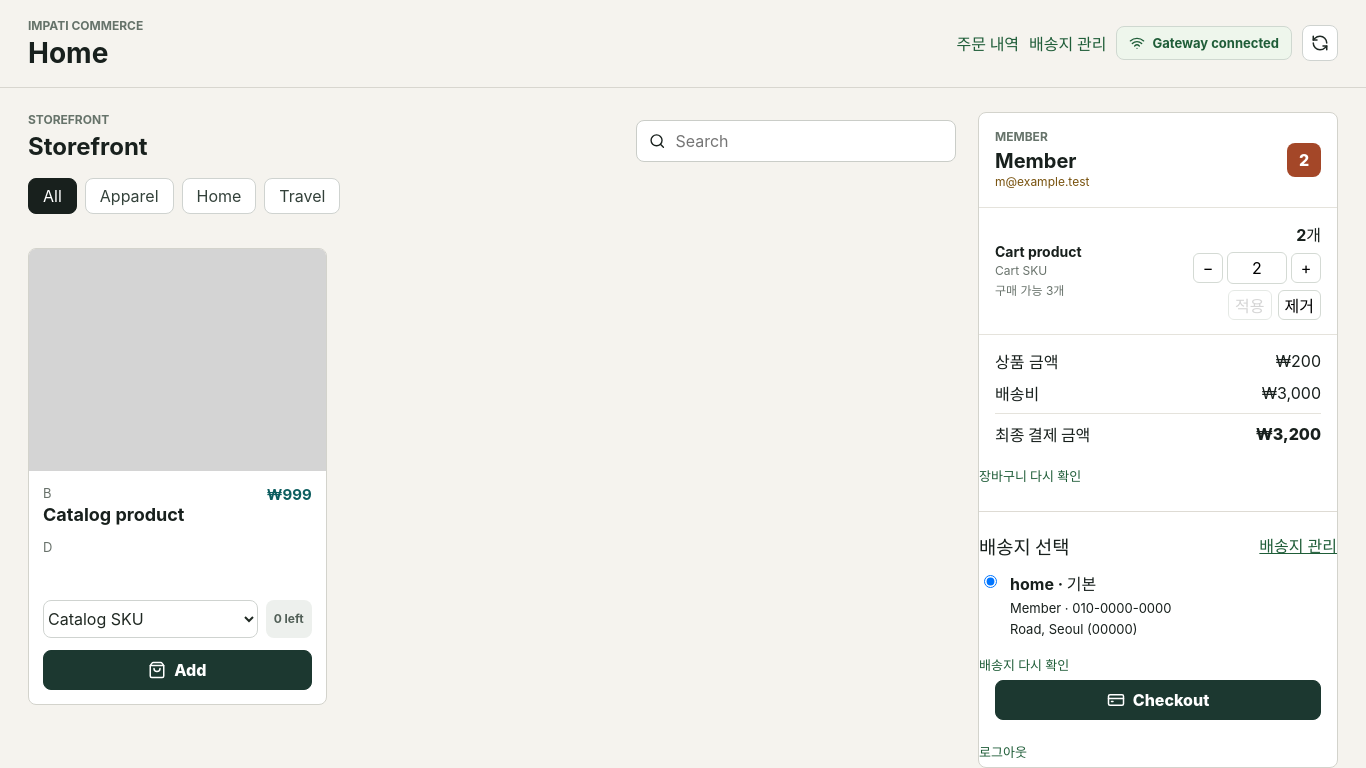
reports committed additions and retries only the failed view lookup
Expected: the button "Checkout" is enabled, [995,680,1321,720]
Click the button "Add" at [177, 670], box [43,650,312,690]
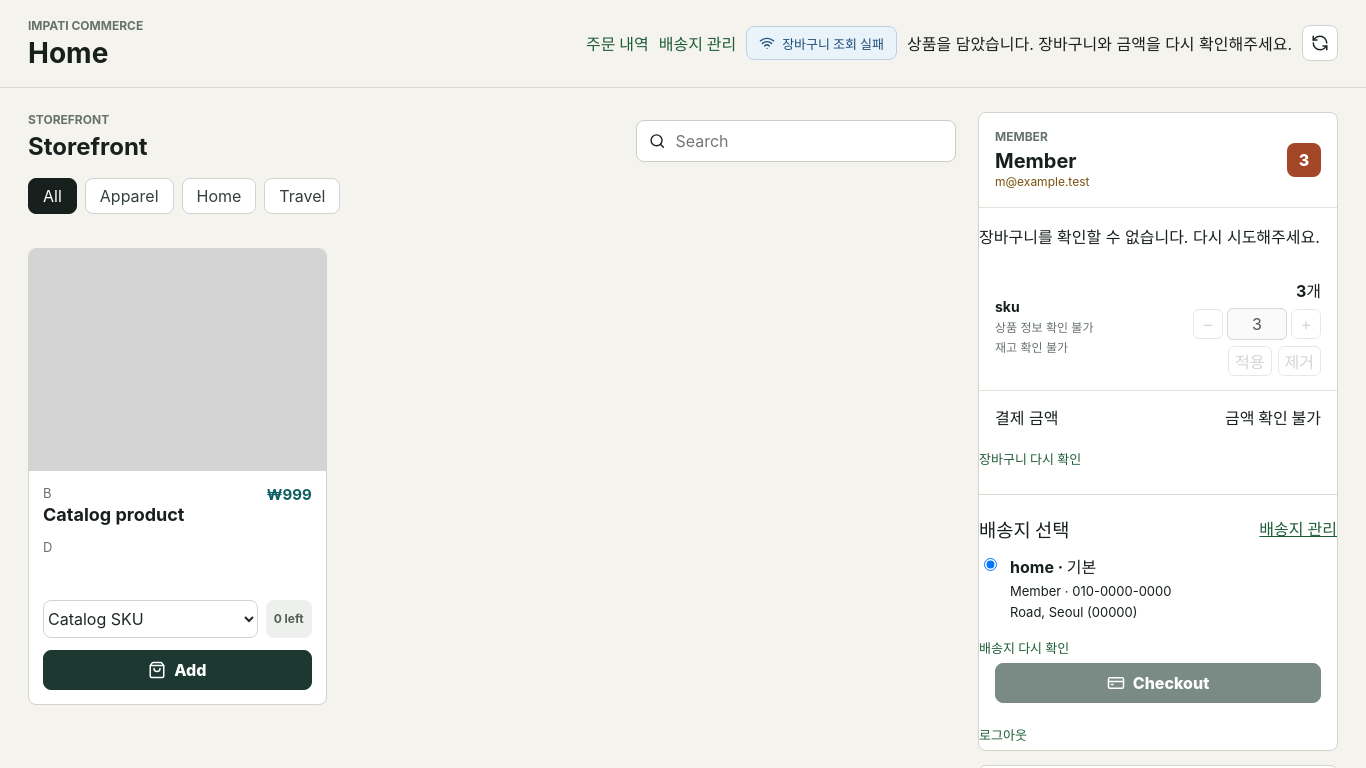
Expected: the text "상품을 담았습니다. 장바구니와 금액을 다시 확인해주세요." is shown, [907,31,1292,55]
Expected: the text "3개" is shown, [1296,278,1321,302]
Expected: the button "Checkout" is disabled, [995,663,1321,703]
Click the button "장바구니 다시 확인" at [1030, 458], box [979,443,1081,474]
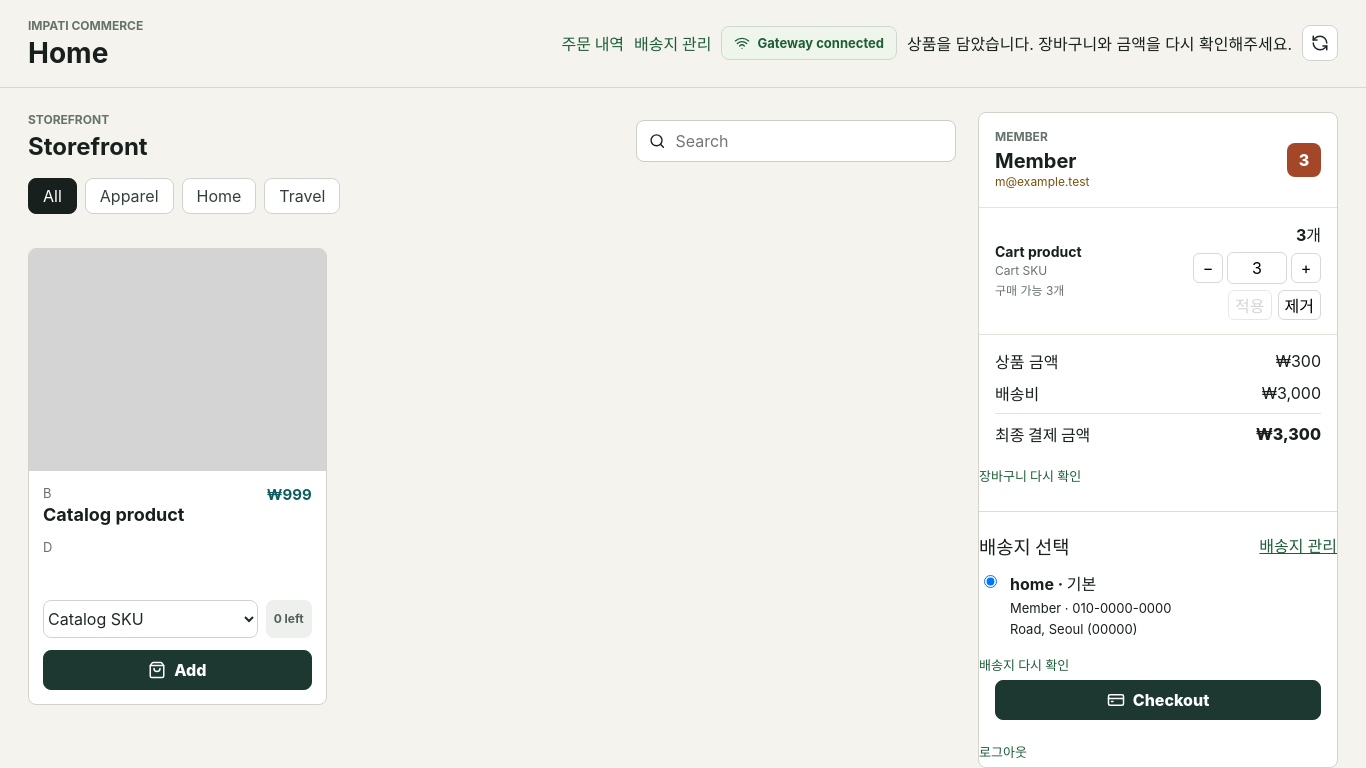
Expected: the button "Checkout" is enabled, [995,680,1321,720]
